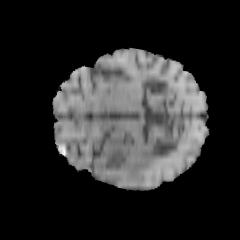glioma: (94, 139, 158, 183)
